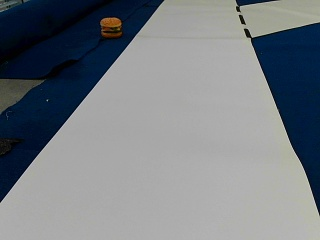burger: (99, 15, 122, 37)
